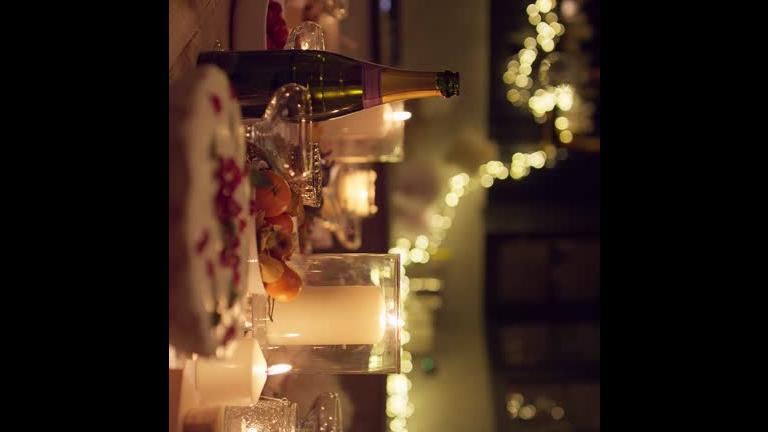controlled_fire: (246, 348, 294, 390), (369, 96, 423, 131)
